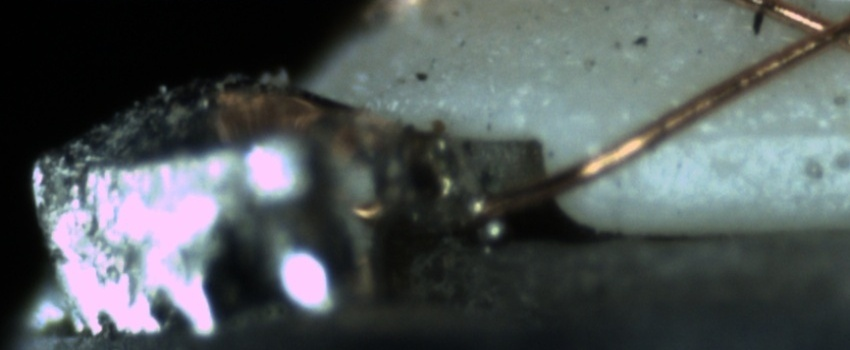CL: (781, 3, 849, 58)
DL: (673, 103, 849, 167)
